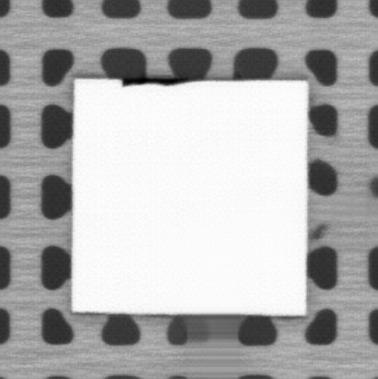DIE_BROKEN: (118, 74, 193, 88)
